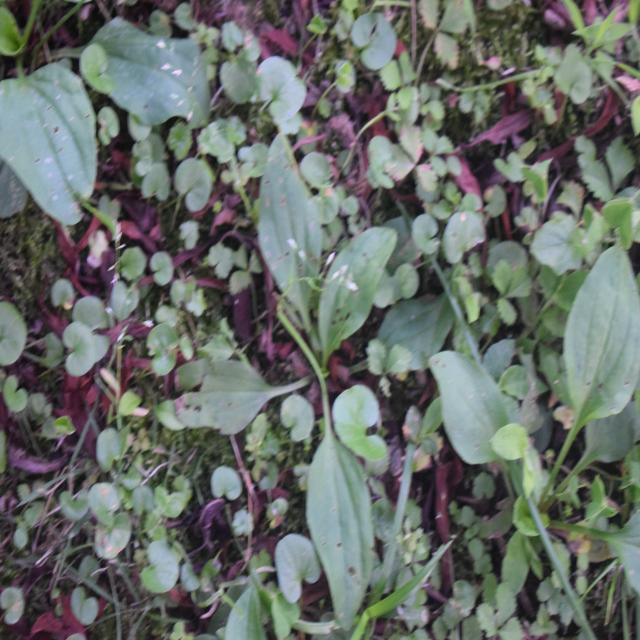plantain: (212, 123, 430, 582)
